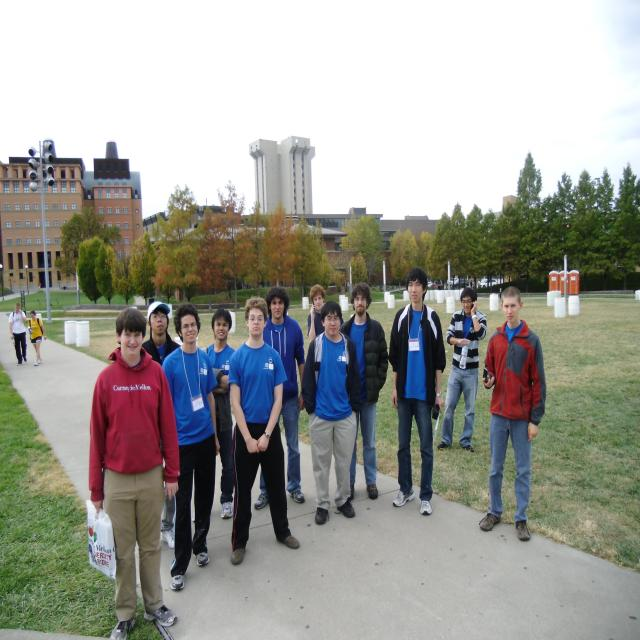body: (86, 307, 180, 640), (227, 296, 300, 568), (478, 286, 547, 542), (162, 304, 219, 591), (388, 268, 448, 516), (301, 301, 364, 526), (253, 285, 306, 510), (339, 282, 388, 500), (191, 308, 239, 524), (141, 300, 182, 549), (436, 288, 486, 453), (307, 284, 327, 344), (9, 302, 27, 365), (27, 310, 47, 366), (437, 276, 448, 290), (469, 279, 482, 288)
